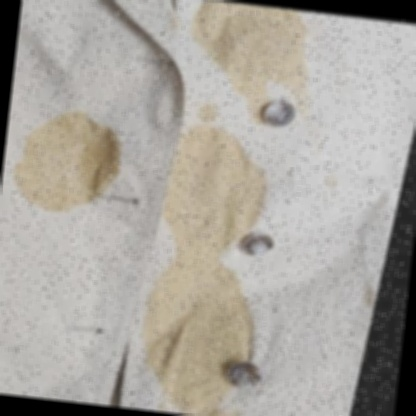coffee: (159, 130, 248, 253), (193, 1, 314, 86), (153, 262, 253, 359), (15, 117, 117, 211)
